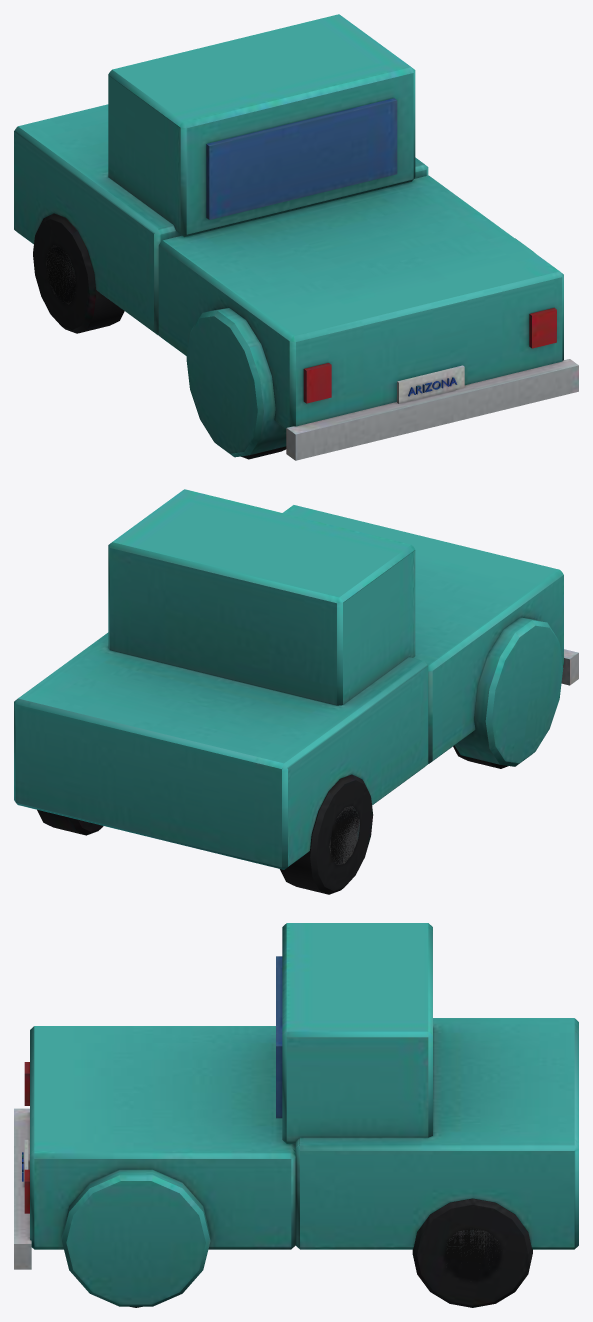
File: pickup.glb
The picture shows the model from 3 angles, top to bottom: view 1: azimuth 30°, elevation 25°; view 2: azimuth 150°, elevation 25°; view 3: azimuth 270°, elevation 25°; orthographic projection. The views are drawn at different scales.
Parts seen in each view (by area): view 1: pickup; view 2: pickup; view 3: pickup.
Part boxes in pixels (box(x1,y1,x2,y2)): pickup: box(14, 14, 578, 460); pickup: box(14, 489, 578, 894); pickup: box(14, 923, 578, 1307).
Bounding box in the file's own units: 1.95 × 1.65 × 3.19.
Materials: 1 (1 with a texture image).
